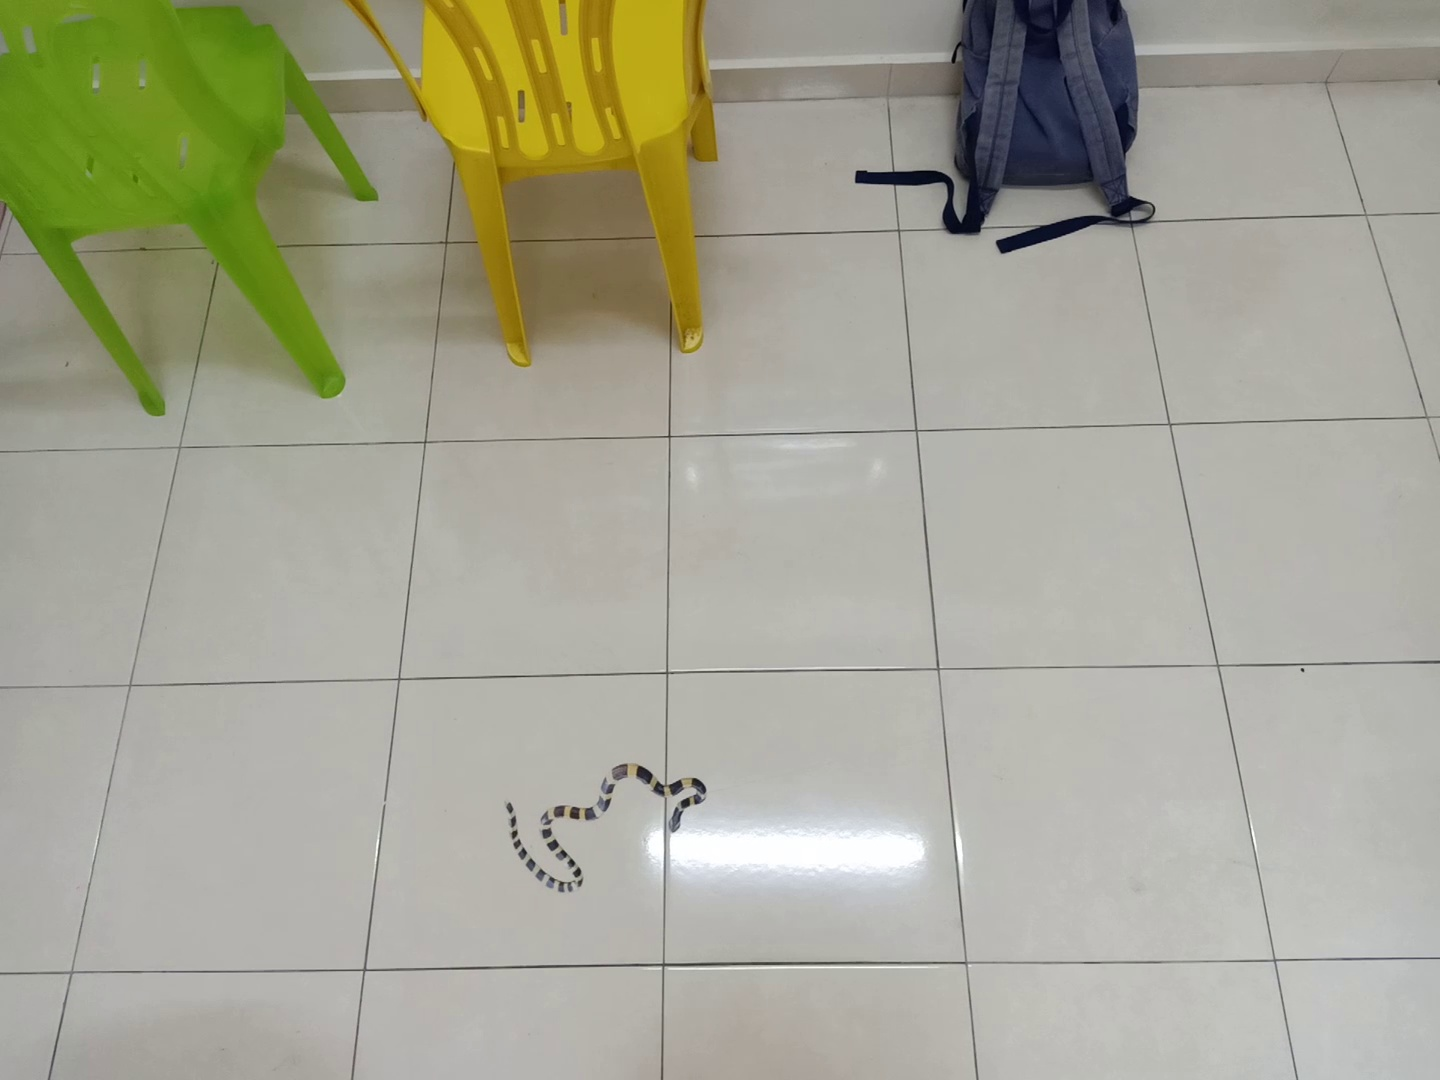snake: (503, 751, 713, 900)
